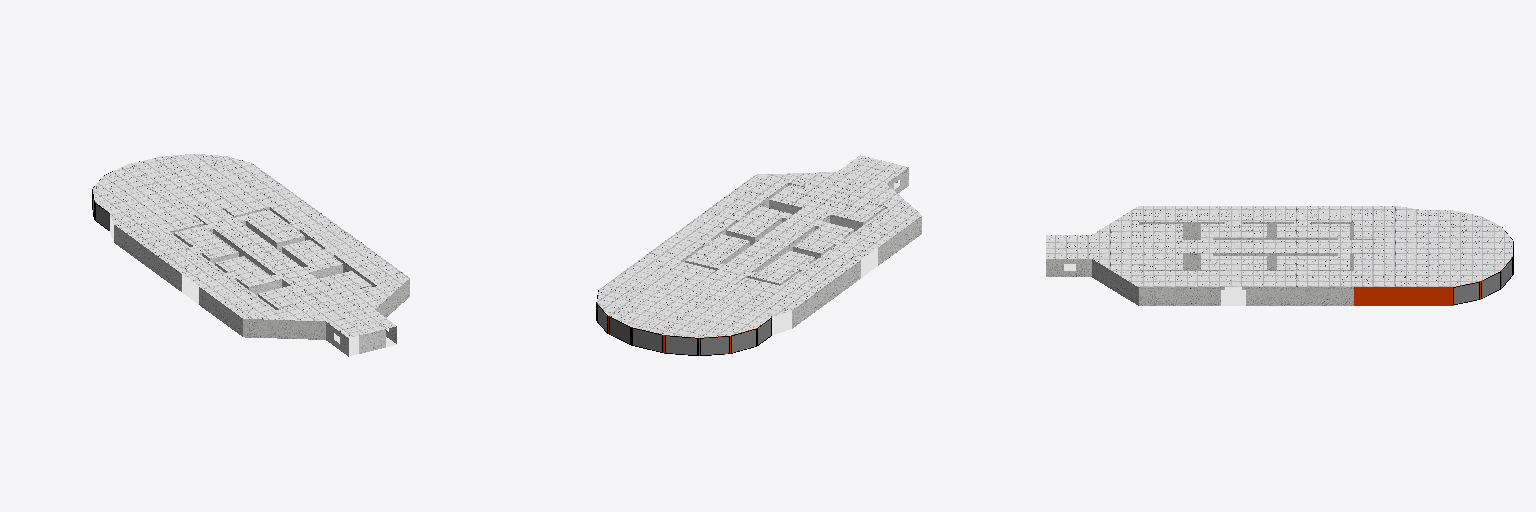
The picture shows the model from 3 angles: view 1: azimuth 30°, elevation 25°; view 2: azimuth 150°, elevation 25°; view 3: azimuth 270°, elevation 25°; orthographic projection.
Parts seen in each view (by area): view 1: Entrance_01; view 2: Entrance_01; view 3: Entrance_01.
Part boxes in pixels (x1,y1,x2,y2): Entrance_01: (92,154,409,356); Entrance_01: (596,155,921,355); Entrance_01: (1046,206,1513,305).
Size of the model in its own units: 79.57 by 8.49 by 193.
6 materials, 2 textured.